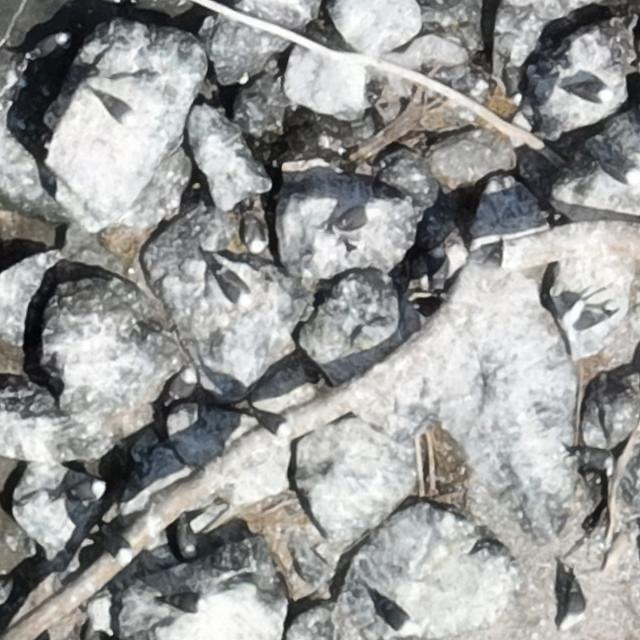umineko: (206, 259, 254, 311), (548, 290, 608, 331), (561, 576, 595, 632), (97, 520, 135, 566), (240, 212, 269, 258), (382, 603, 412, 632), (103, 96, 135, 122), (338, 208, 373, 230), (33, 34, 66, 57), (168, 368, 193, 396), (255, 412, 288, 433), (163, 592, 201, 610), (575, 449, 611, 468), (572, 82, 606, 101), (603, 162, 635, 182), (73, 480, 101, 499), (178, 526, 194, 556)
